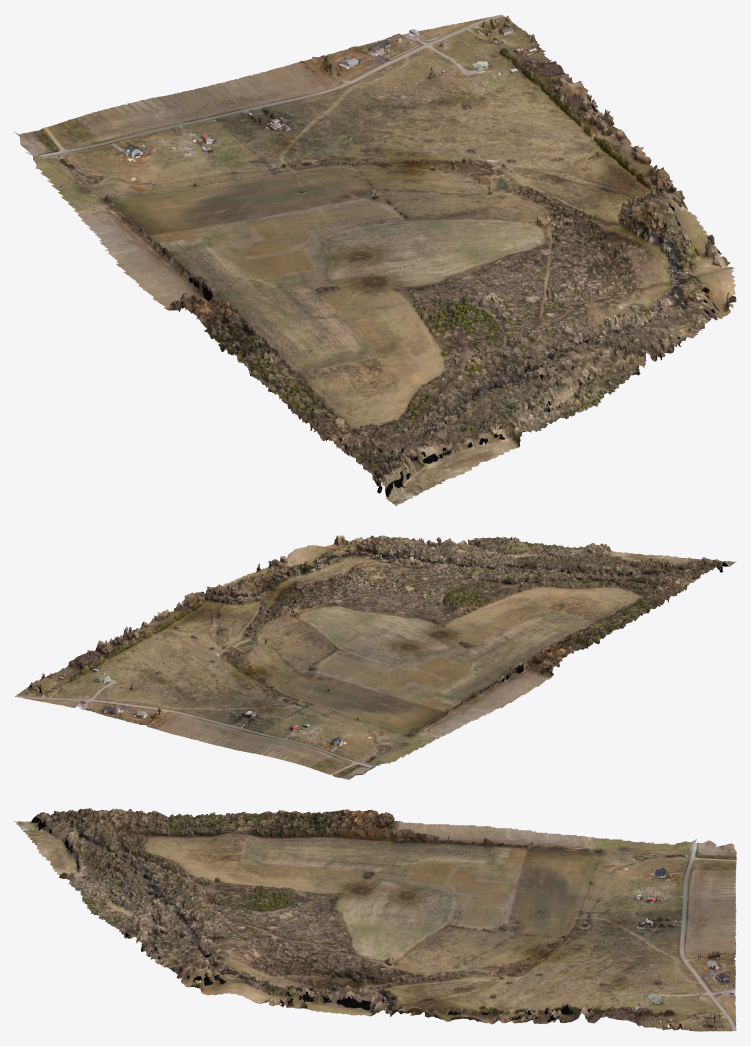
Rendered from landscape.6ee19f3e265c.glb.
The picture shows the model from 3 angles, top to bottom: view 1: azimuth 30°, elevation 25°; view 2: azimuth 150°, elevation 25°; view 3: azimuth 270°, elevation 25°; orthographic projection. The views are drawn at different scales.
Visible parts, largest first — view 1: scanned-site-surface, scanned-site-surface_2, scanned-site-surface_4, scanned-site-surface_10, scanned-site-surface_8, scanned-site-surface_6, scanned-site-surface_9, scanned-site-surface_7, scanned-site-surface_5, scanned-site-surface_11, scanned-site-surface_1, scanned-site-surface_3; view 2: scanned-site-surface, scanned-site-surface_2, scanned-site-surface_4, scanned-site-surface_8, scanned-site-surface_10, scanned-site-surface_6, scanned-site-surface_9, scanned-site-surface_7, scanned-site-surface_5, scanned-site-surface_3, scanned-site-surface_11, scanned-site-surface_1; view 3: scanned-site-surface, scanned-site-surface_2, scanned-site-surface_4, scanned-site-surface_10, scanned-site-surface_8, scanned-site-surface_6, scanned-site-surface_9, scanned-site-surface_7, scanned-site-surface_3, scanned-site-surface_5, scanned-site-surface_11, scanned-site-surface_1.
Part boxes in pixels (<box>): scanned-site-surface: <box>14,18,705,496</box>; scanned-site-surface_2: <box>81,20,715,480</box>; scanned-site-surface_4: <box>100,19,701,476</box>; scanned-site-surface_10: <box>162,33,735,503</box>; scanned-site-surface_8: <box>116,16,734,503</box>; scanned-site-surface_6: <box>92,14,730,480</box>; scanned-site-surface_9: <box>192,119,730,464</box>; scanned-site-surface_7: <box>233,266,728,506</box>; scanned-site-surface_5: <box>202,241,735,470</box>; scanned-site-surface_11: <box>227,43,639,504</box>; scanned-site-surface_1: <box>44,126,717,471</box>; scanned-site-surface_3: <box>175,163,736,433</box>; scanned-site-surface: <box>39,541,727,779</box>; scanned-site-surface_2: <box>42,535,723,763</box>; scanned-site-surface_4: <box>21,537,707,747</box>; scanned-site-surface_8: <box>30,540,733,737</box>; scanned-site-surface_10: <box>77,541,731,718</box>; scanned-site-surface_6: <box>15,535,712,764</box>; scanned-site-surface_9: <box>191,536,664,730</box>; scanned-site-surface_7: <box>345,537,736,639</box>; scanned-site-surface_5: <box>292,535,708,650</box>; scanned-site-surface_3: <box>204,537,662,670</box>; scanned-site-surface_11: <box>92,540,734,711</box>; scanned-site-surface_1: <box>214,536,660,759</box>; scanned-site-surface: <box>32,812,736,1029</box>; scanned-site-surface_2: <box>49,810,736,1026</box>; scanned-site-surface_4: <box>44,810,730,1031</box>; scanned-site-surface_10: <box>16,812,735,1023</box>; scanned-site-surface_8: <box>20,808,735,1030</box>; scanned-site-surface_6: <box>41,808,736,1031</box>; scanned-site-surface_9: <box>50,810,668,1014</box>; scanned-site-surface_7: <box>14,810,351,985</box>; scanned-site-surface_3: <box>74,810,514,1015</box>; scanned-site-surface_5: <box>49,810,354,991</box>; scanned-site-surface_11: <box>16,808,723,1020</box>; scanned-site-surface_1: <box>45,814,678,1007</box>.
Size of the model in its own units: 750 by 54.59 by 1056.
Materials: 6 (6 with a texture image).
